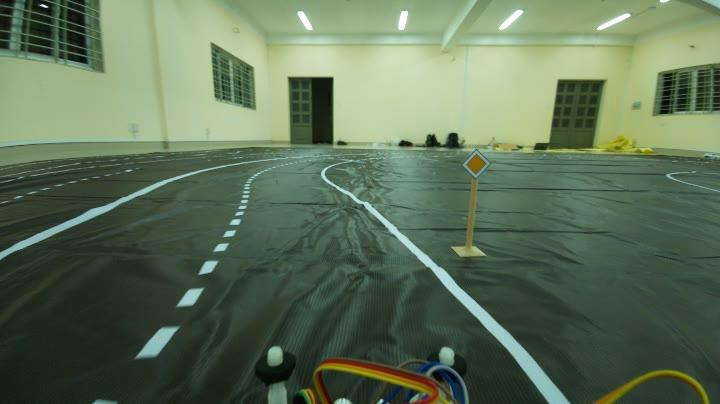priority: (458, 146, 492, 182)
